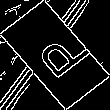P_SW: (22, 25, 88, 85)
